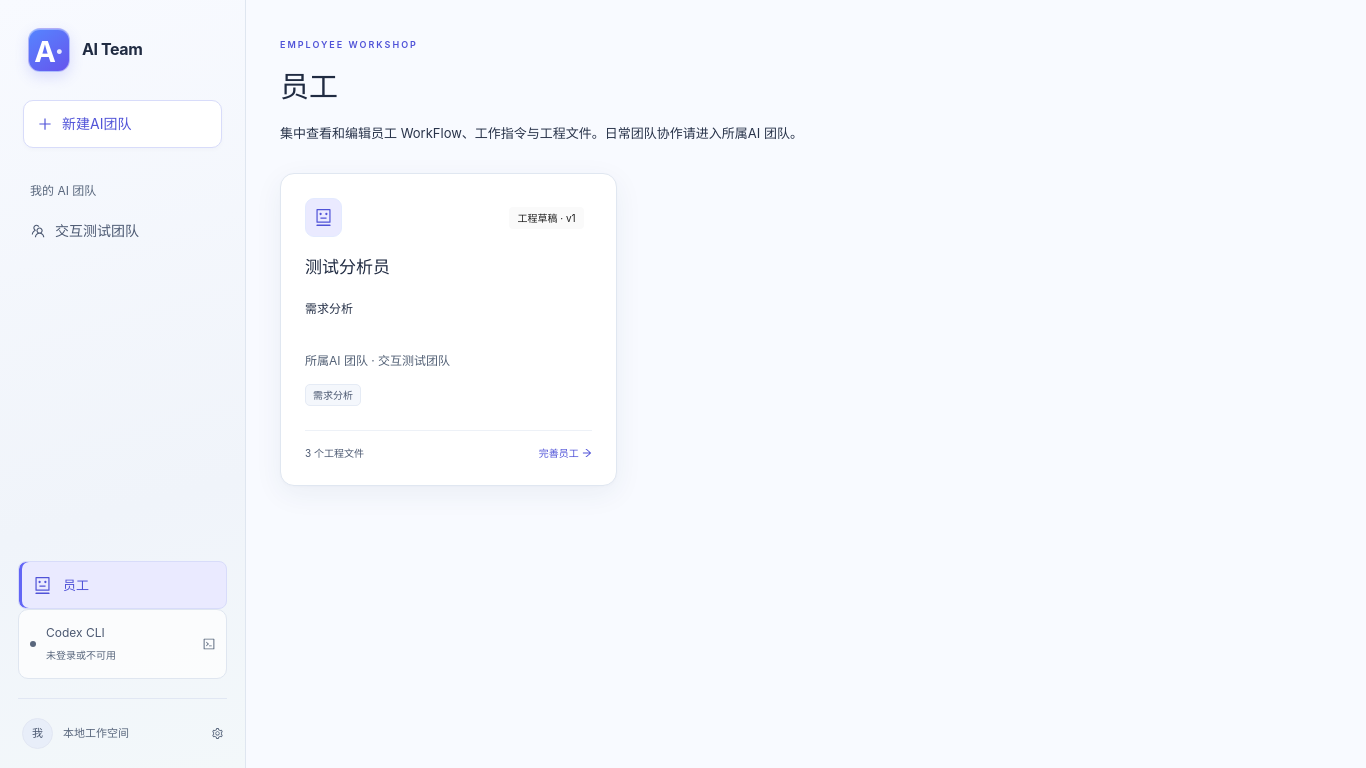
Test case: 打开员工详情重新读取已保存 WorkFlow，不使用旧列表文件
Click the button "工程草稿 · v1 测试分析员 需求分析 所属AI 团队 · 交互测试团队 需求分析 3 个工程文件 完善员工" at (324, 218), box x1=280 y1=173 x2=617 y2=486
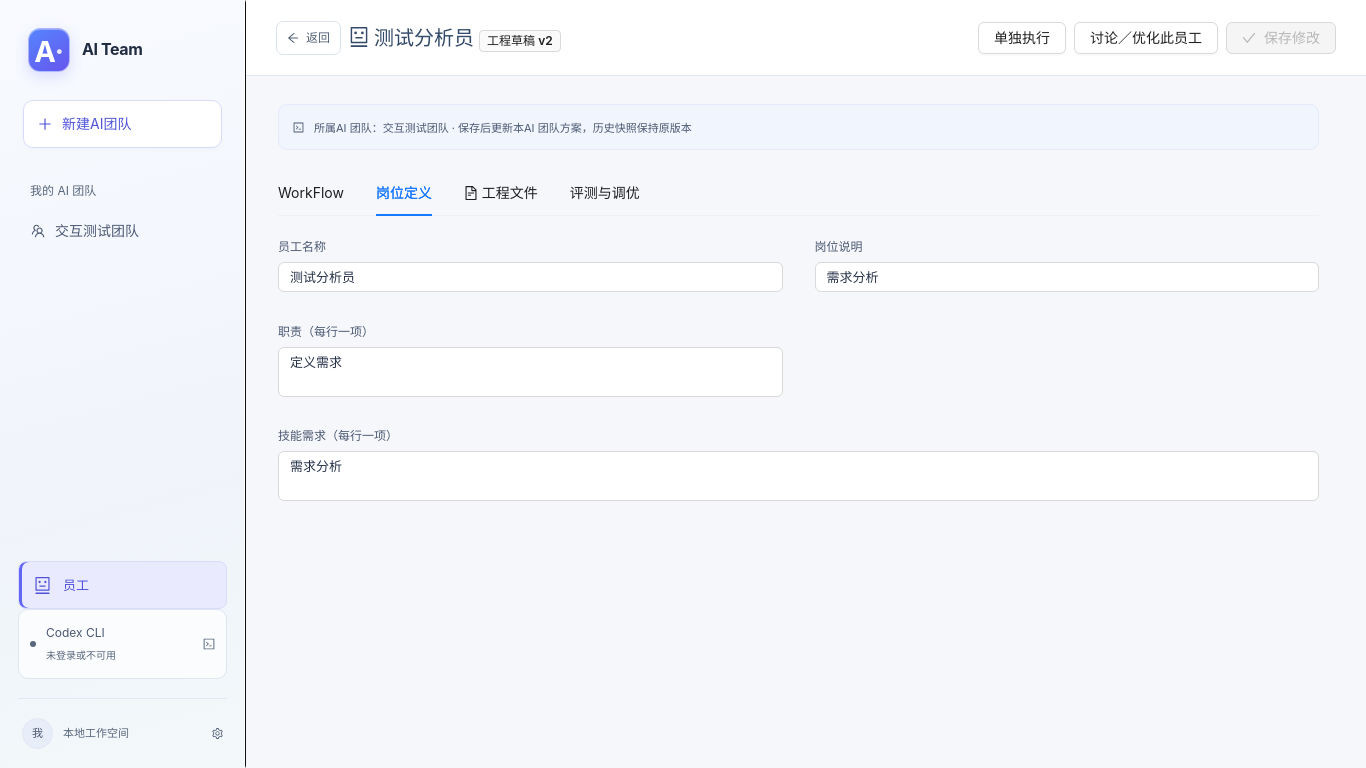
Click the tab "WorkFlow" at (311, 193), box x1=278 y1=182 x2=344 y2=204
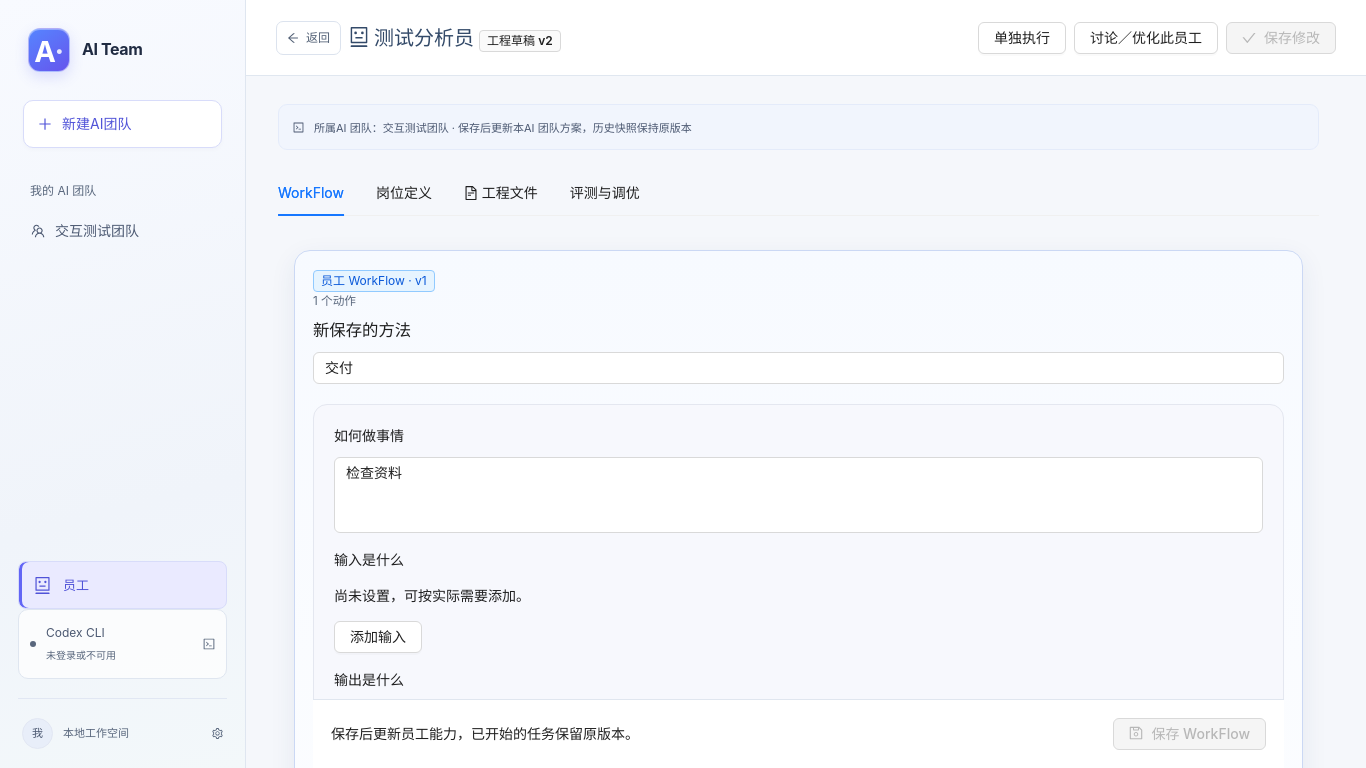
Expected: the heading "新保存的方法" is shown, x1=313 y1=320 x2=411 y2=340
